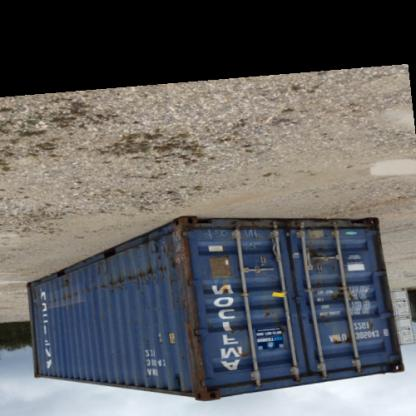Damage: (176, 317, 209, 395), (144, 230, 202, 274), (86, 270, 141, 300), (232, 225, 270, 253), (50, 278, 82, 310), (306, 240, 339, 268), (253, 308, 286, 336), (228, 346, 262, 368), (328, 288, 356, 310), (326, 335, 358, 351), (204, 226, 230, 242), (217, 283, 233, 302), (364, 316, 378, 336)
